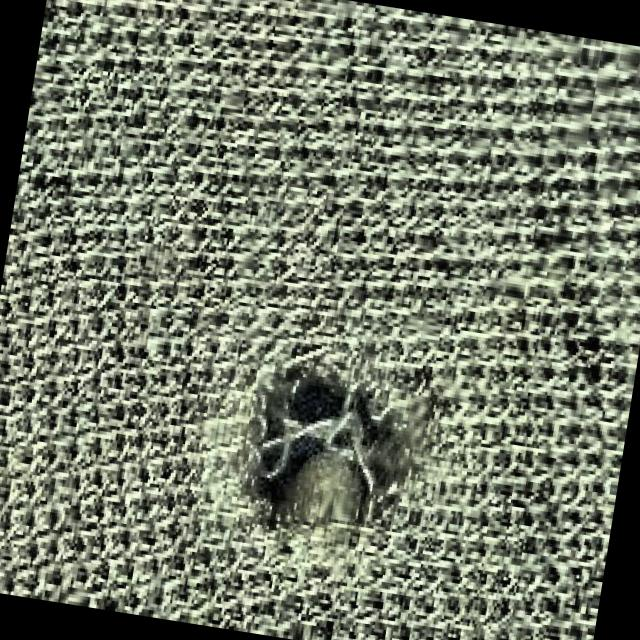cut: (198, 308, 452, 616)
